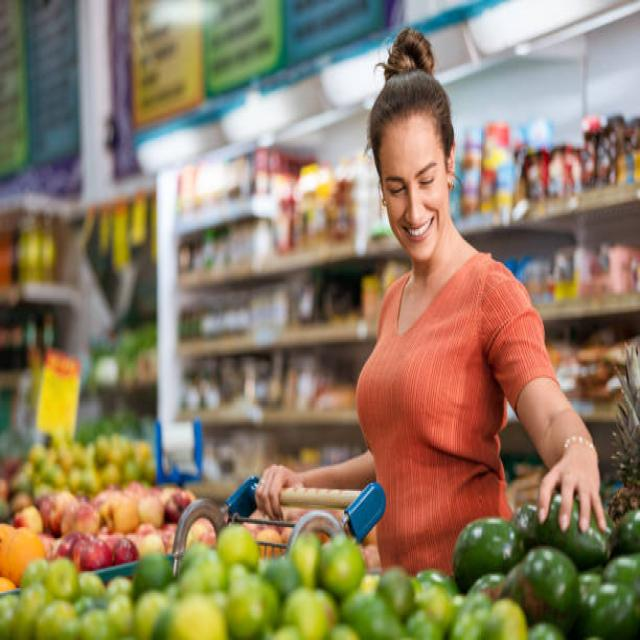article: (511, 493, 612, 568)
hands: (540, 447, 605, 529), (256, 464, 301, 516)
person: (255, 28, 605, 571)
